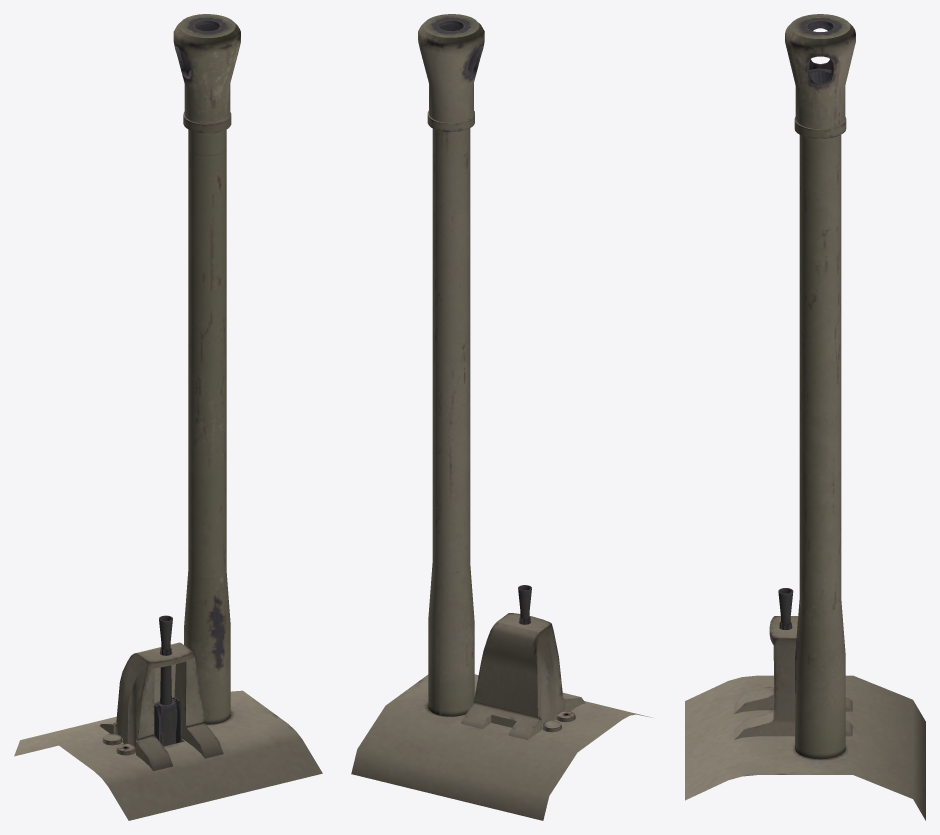
File: Gun_01.glb
3 views of the same model, side by side, from view 1: azimuth 30°, elevation 25°; view 2: azimuth 150°, elevation 25°; view 3: azimuth 270°, elevation 25° (orthographic). The views are drawn at different scales.
Parts seen in each view (by area): view 1: set_0_group_0; view 2: set_0_group_0; view 3: set_0_group_0.
Part boxes in pixels (x1,y1,x2,y2): set_0_group_0: (14,14,322,820); set_0_group_0: (351,14,651,820); set_0_group_0: (685,14,925,820).
Size of the model in its own units: 0.5825 by 2.1 by 0.5958.
Materials: 1 (1 with a texture image).
